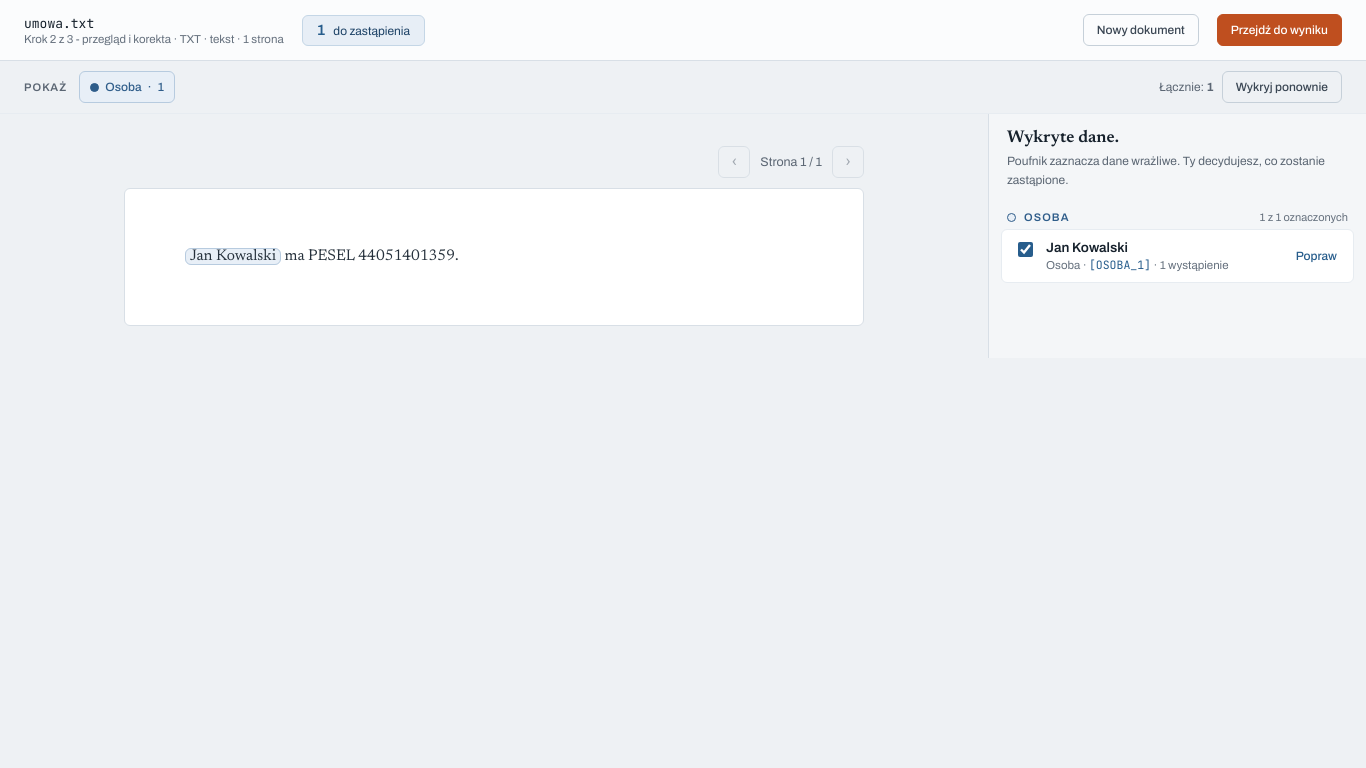
DocumentWorkspace document view › opens the entity popover when an entity is clicked and closes it again
Click the button with aria-label "Osoba: Jan Kowalski" at (233, 256), box x1=185 y1=248 x2=281 y2=265
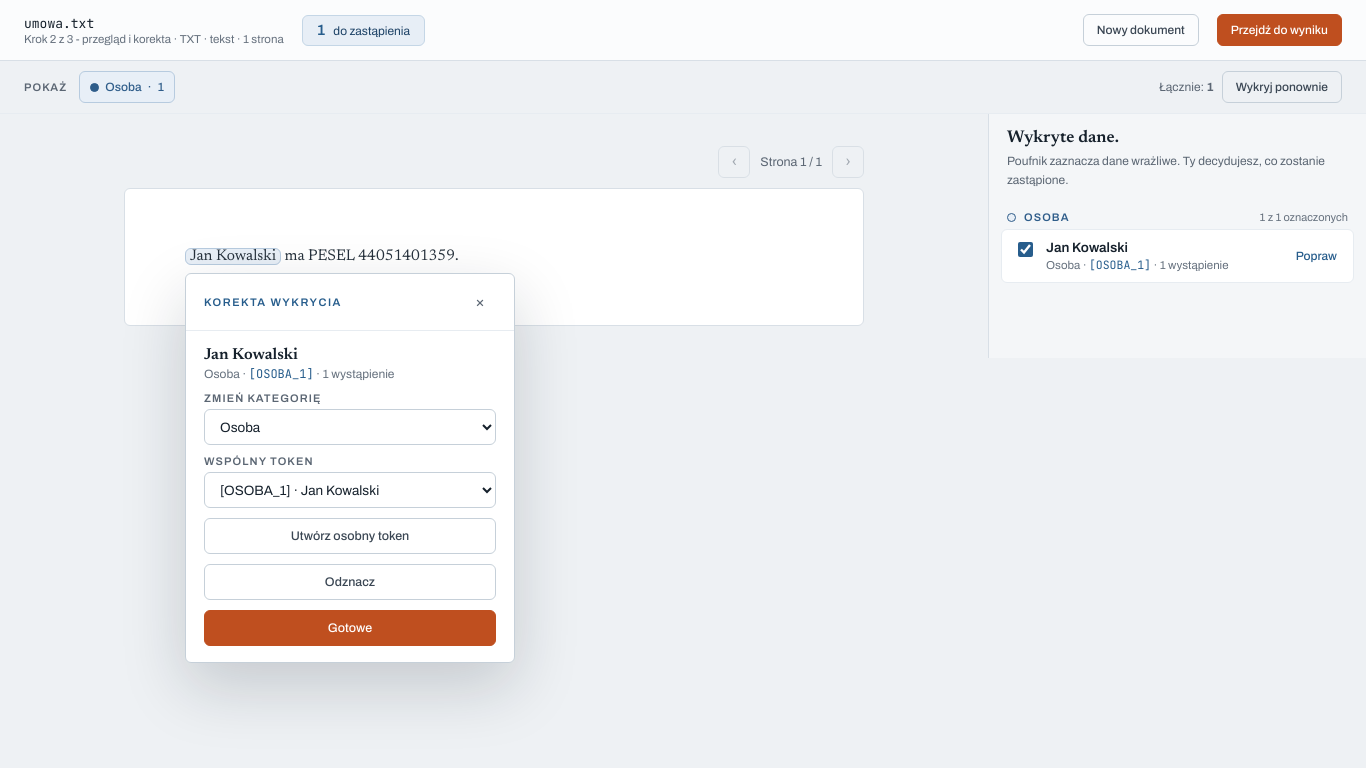
Expected: the dialog is shown, x1=185 y1=273 x2=515 y2=663
Click the button named "Zamknij" at (480, 302), box x1=464 y1=286 x2=496 y2=318
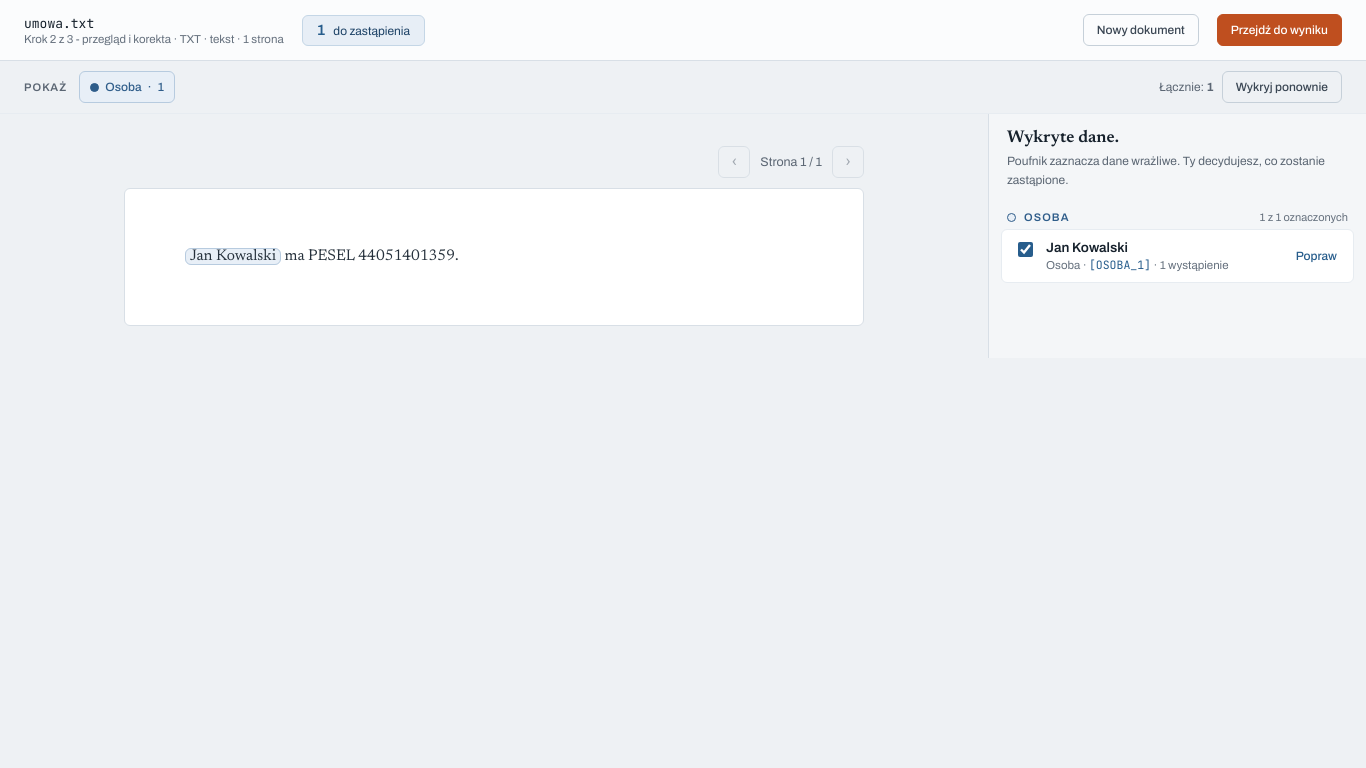
Expected: the dialog is gone
